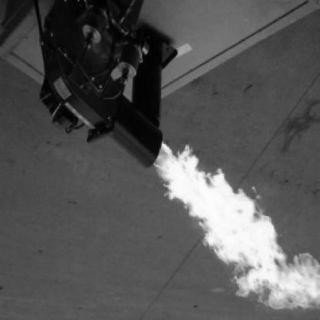Fire: (158, 142, 320, 316)
